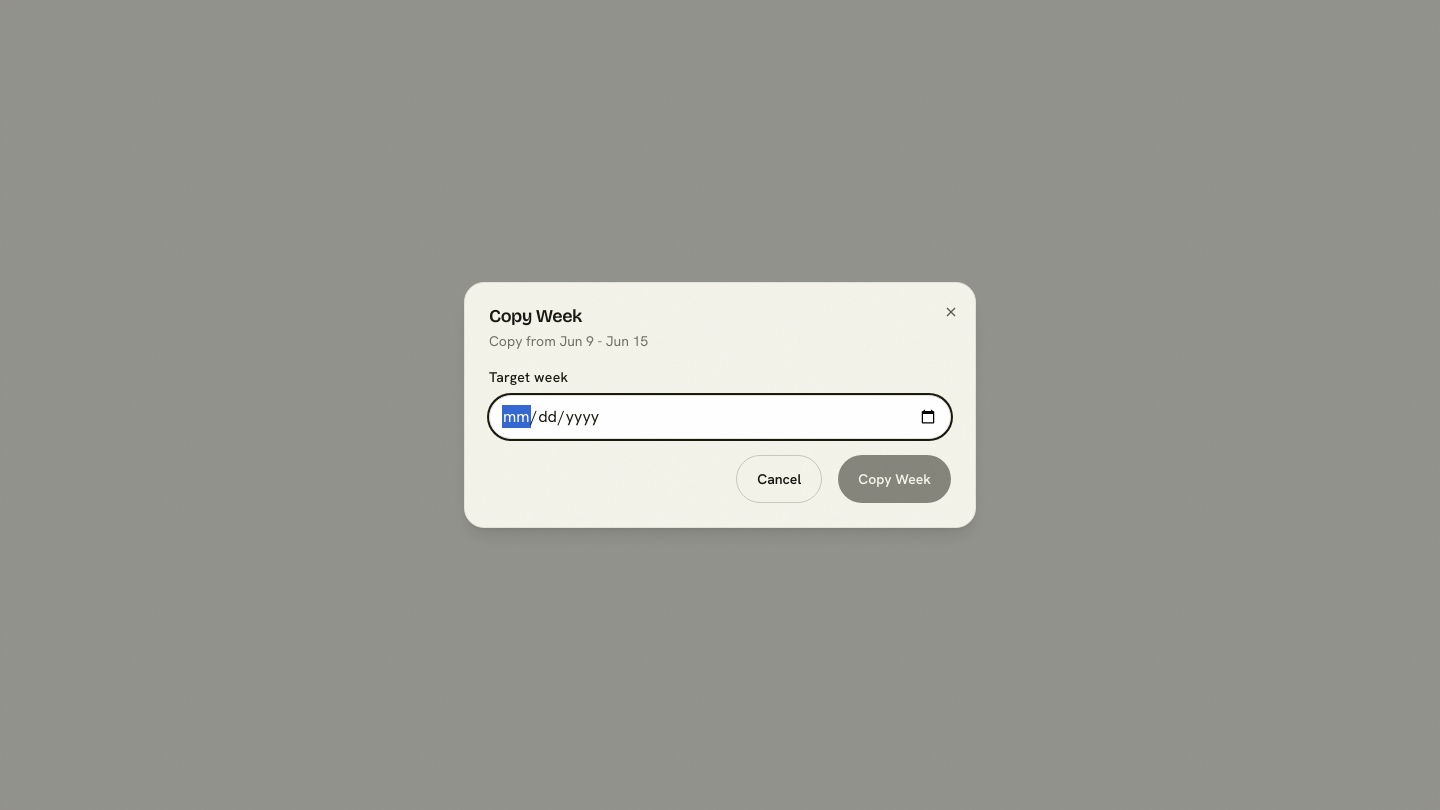
CopyWeekModal › warns and switches the confirm label when the target week has meals
Type "2025-06-16" into the date field labelled "Target week" at (720, 417), box [489,395,951,439]
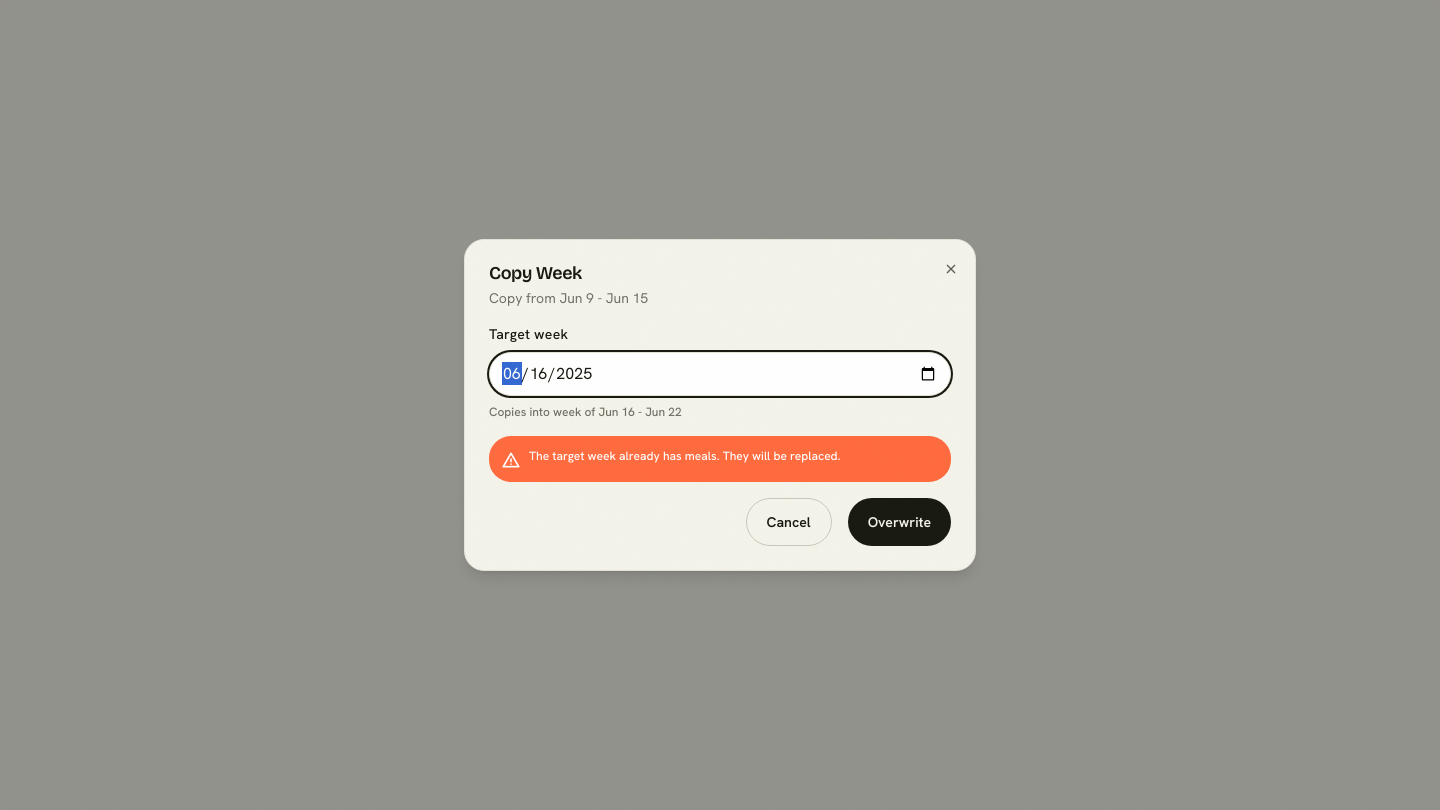
Expected: the message reads "The target week already has meals. They will be replaced.", [529,448,840,464]
Expected: the button "Overwrite" is shown, [848,498,951,546]
